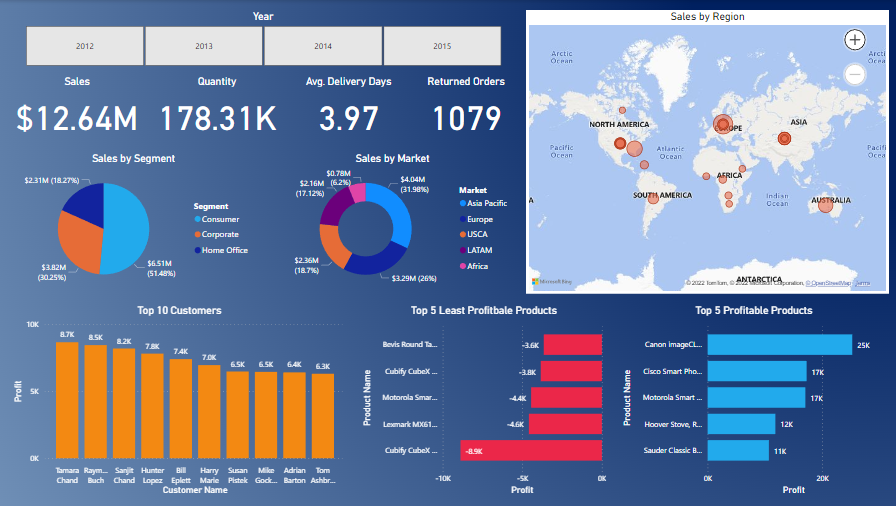

This screenshot's page, from the dashboard's own definition file:
{"tool":"powerbi","page":{"name":"Sales And Profit Dashboard","canvas":[1450,820],"ordinal":0},"visuals":[{"type":"card","title":"Sales","fields":{"Values":["Orders.Sales"]},"box":[16.1,121.1,216.3,108.1],"z":0},{"type":"card","title":"Quantity","fields":{"Values":["Orders.Quantity"]},"box":[247,121.1,206.6,108.1],"z":1000},{"type":"card","title":"Avg. Delivery Days","fields":{"Values":["Orders.Delivery days "]},"box":[469.7,121.1,185.6,108.1],"z":2000},{"type":"slicer","title":"Year","fields":{"Values":["Orders.Year"]},"box":[16.1,16.1,816.8,96.9],"z":3000},{"type":"card","title":"Returned Orders","fields":{"Values":["Returns.Returned orders"]},"box":[671.5,121.1,161.4,108.1],"z":4000},{"type":"map","fields":{"Category":["Orders.Region"],"Size":["Orders.Sales"]},"box":[849.1,16.1,585.9,458.4],"z":5000},{"type":"barChart","title":"Top 5 Profitable Products","fields":{"Y":["Orders.Profit"],"Category":["Orders.Product Name"]},"box":[999.2,490.7,435.8,313.1],"z":6000},{"type":"barChart","title":"Top 5 Least Profitbale Products","fields":{"Y":["Orders.Profit"],"Category":["Orders.Product Name"]},"box":[579.5,490.7,403.5,313.1],"z":7000},{"type":"pieChart","fields":{"Category":["Orders.Segment"],"Y":["Orders.Sales"]},"box":[16.1,245.4,398.7,229.2],"z":8000},{"type":"donutChart","fields":{"Y":["Orders.Sales"],"Category":["Orders.Market"]},"box":[434.2,245.4,398.7,229.2],"z":9000},{"type":"columnChart","title":"Top 10 Customers","fields":{"Y":["Orders.Profit"],"Category":["Orders.Customer Name"]},"box":[16.1,490.7,547.2,313.1],"z":10000}]}

Visuals, with their boxes in screenshot pixels (x1, y1, x2, y2), scaled from the page's 1450x820 canvas onto the 896x506 screenshot:
"Sales" card: pyautogui.locateOnScreen(10, 75, 144, 141)
"Quantity" card: pyautogui.locateOnScreen(153, 75, 280, 141)
"Avg. Delivery Days" card: pyautogui.locateOnScreen(290, 75, 405, 141)
"Year" slicer: pyautogui.locateOnScreen(10, 10, 515, 70)
"Returned Orders" card: pyautogui.locateOnScreen(415, 75, 515, 141)
map - Orders.Region x Orders.Sales: pyautogui.locateOnScreen(525, 10, 887, 293)
"Top 5 Profitable Products" barChart: pyautogui.locateOnScreen(617, 303, 887, 496)
"Top 5 Least Profitbale Products" barChart: pyautogui.locateOnScreen(358, 303, 607, 496)
pieChart - Orders.Segment x Orders.Sales: pyautogui.locateOnScreen(10, 151, 256, 293)
donutChart - Orders.Sales x Orders.Market: pyautogui.locateOnScreen(268, 151, 515, 293)
"Top 10 Customers" columnChart: pyautogui.locateOnScreen(10, 303, 348, 496)
